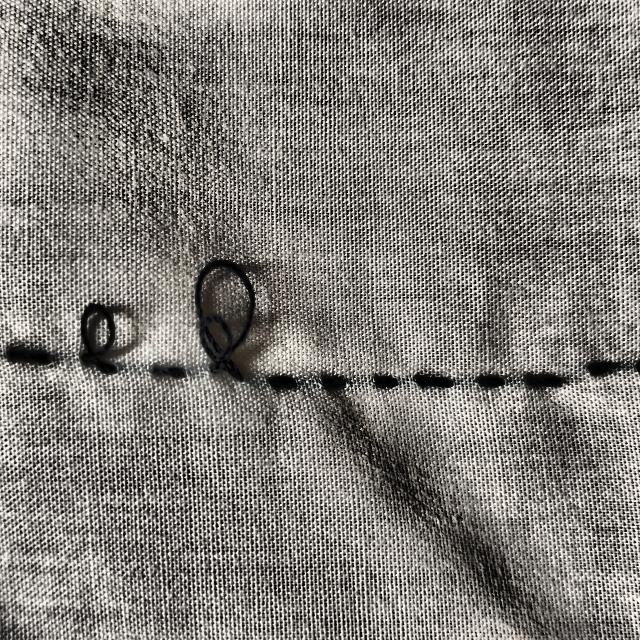gray stitch: (183, 244, 261, 430), (72, 275, 138, 413)
